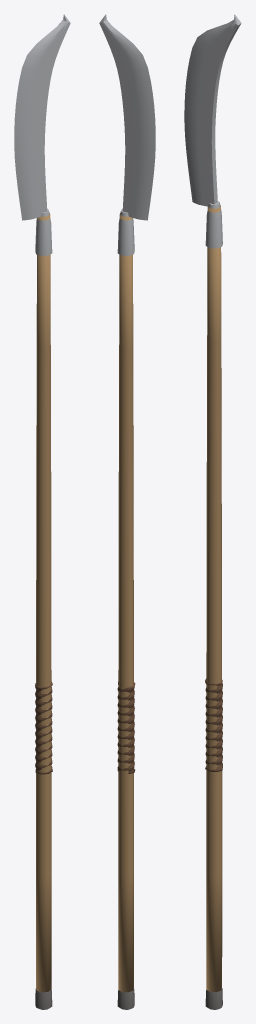
Rendered from glaive.glb.
3 renders of one model, left to right at view 1: azimuth 30°, elevation 25°; view 2: azimuth 150°, elevation 25°; view 3: azimuth 330°, elevation 25°, orthographic.
Visible parts, largest first — view 1: glaive; view 2: glaive; view 3: glaive.
Part boxes in pixels (<box>): glaive: <box>14,14,70,1009</box>; glaive: <box>99,14,155,1009</box>; glaive: <box>184,14,241,1009</box>.
Bounding box in the file's own units: 0.33 × 5.68 × 0.0924.
